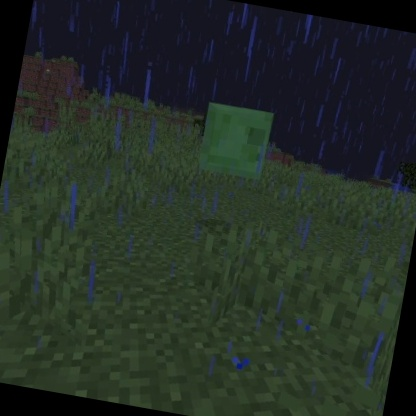slime: (191, 98, 278, 188)
